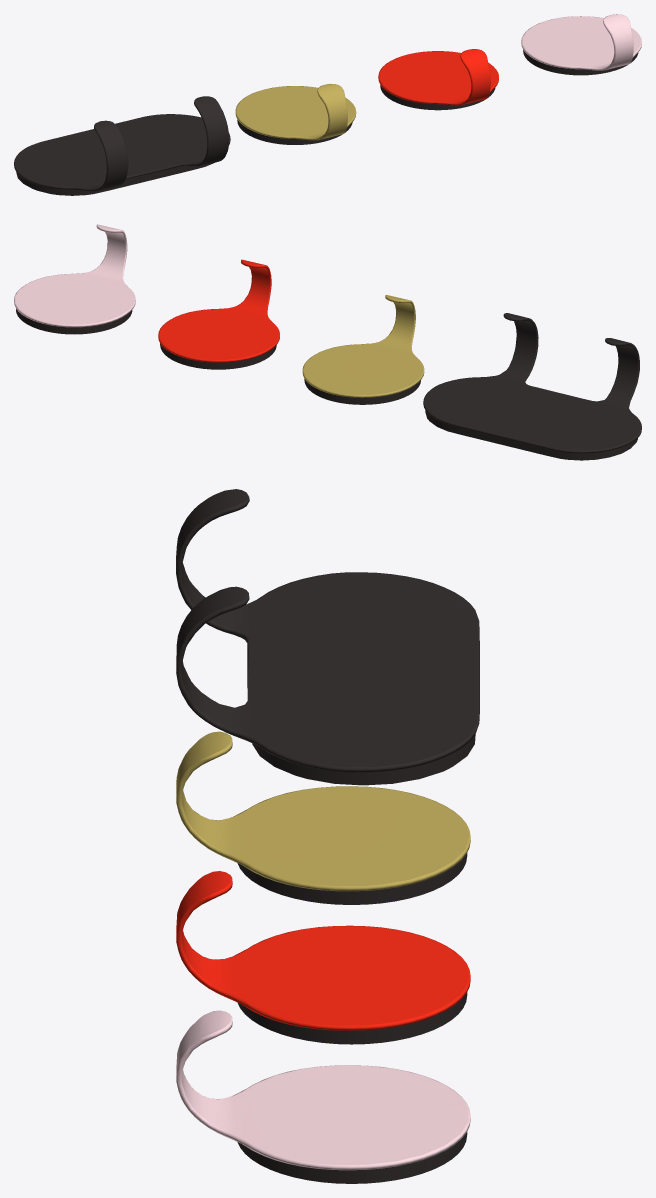
The picture shows the model from 3 angles, top to bottom: view 1: azimuth 30°, elevation 25°; view 2: azimuth 150°, elevation 25°; view 3: azimuth 270°, elevation 25°; orthographic projection. The views are drawn at different scales.
Visible parts, largest first — view 1: ASY_LPT01_70634517_S01_NV01, ASY_LPT04_70634517_S01_NV01, ASY_LPT03_70634517_S01_NV01, ASY_LPT02_70634517_S01_NV01; view 2: ASY_LPT01_70634517_S01_NV01, ASY_LPT04_70634517_S01_NV01, ASY_LPT03_70634517_S01_NV01, ASY_LPT02_70634517_S01_NV01; view 3: ASY_LPT01_70634517_S01_NV01, ASY_LPT02_70634517_S01_NV01, ASY_LPT04_70634517_S01_NV01, ASY_LPT03_70634517_S01_NV01.
Part boxes in pixels (bbox=[...]): ASY_LPT01_70634517_S01_NV01: bbox=[14, 96, 230, 195]; ASY_LPT04_70634517_S01_NV01: bbox=[521, 14, 641, 75]; ASY_LPT03_70634517_S01_NV01: bbox=[378, 49, 498, 110]; ASY_LPT02_70634517_S01_NV01: bbox=[235, 84, 356, 144]; ASY_LPT01_70634517_S01_NV01: bbox=[423, 313, 641, 460]; ASY_LPT04_70634517_S01_NV01: bbox=[14, 224, 135, 334]; ASY_LPT03_70634517_S01_NV01: bbox=[158, 259, 279, 369]; ASY_LPT02_70634517_S01_NV01: bbox=[302, 295, 424, 404]; ASY_LPT01_70634517_S01_NV01: bbox=[176, 489, 479, 785]; ASY_LPT02_70634517_S01_NV01: bbox=[176, 731, 470, 904]; ASY_LPT04_70634517_S01_NV01: bbox=[176, 1010, 470, 1183]; ASY_LPT03_70634517_S01_NV01: bbox=[176, 871, 470, 1044].
Bounding box in the file's own units: 0.213 × 0.0241 × 0.046.
Materials: 4 (4 with a texture image).
